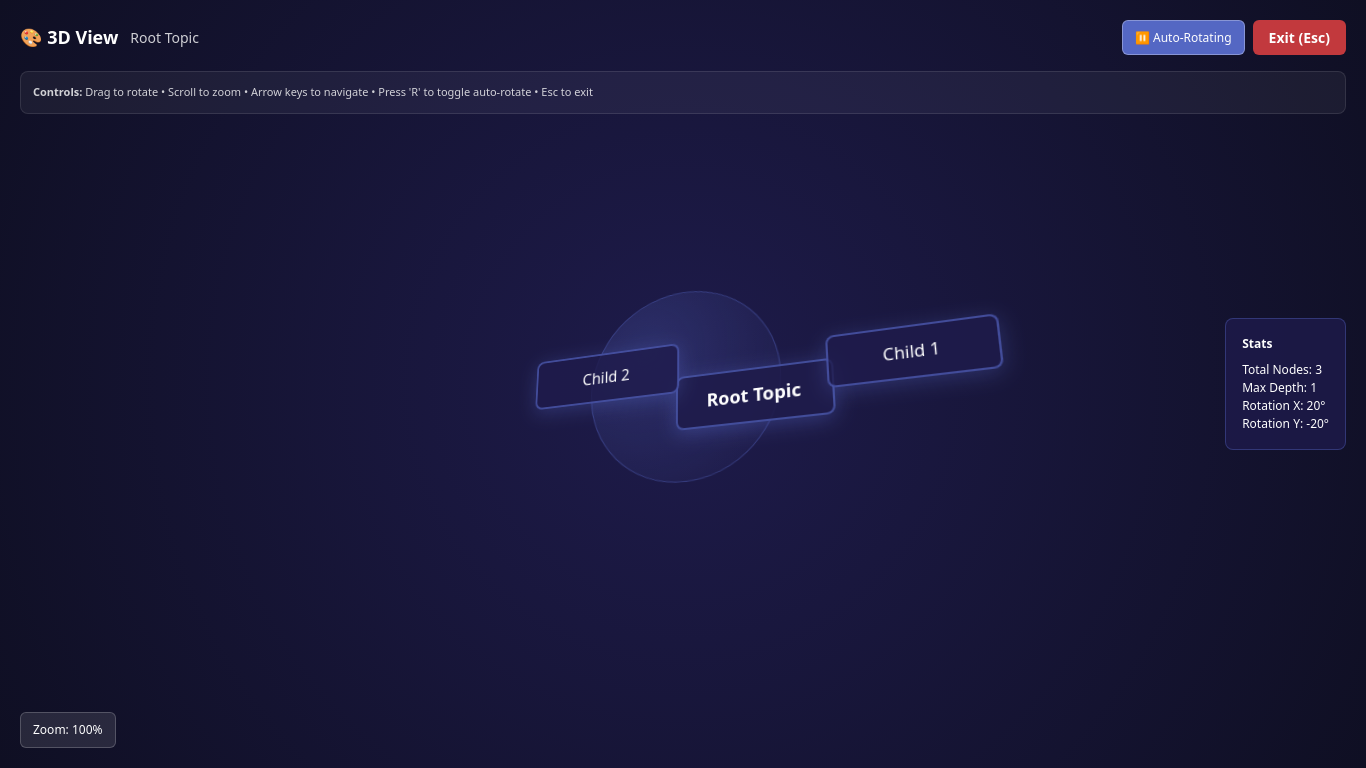
Test case: ThreeDView › should deselect node when clicking same node
Note: Select node
Click the list item "Root Topic" at (762, 401), box [683, 365, 840, 437]
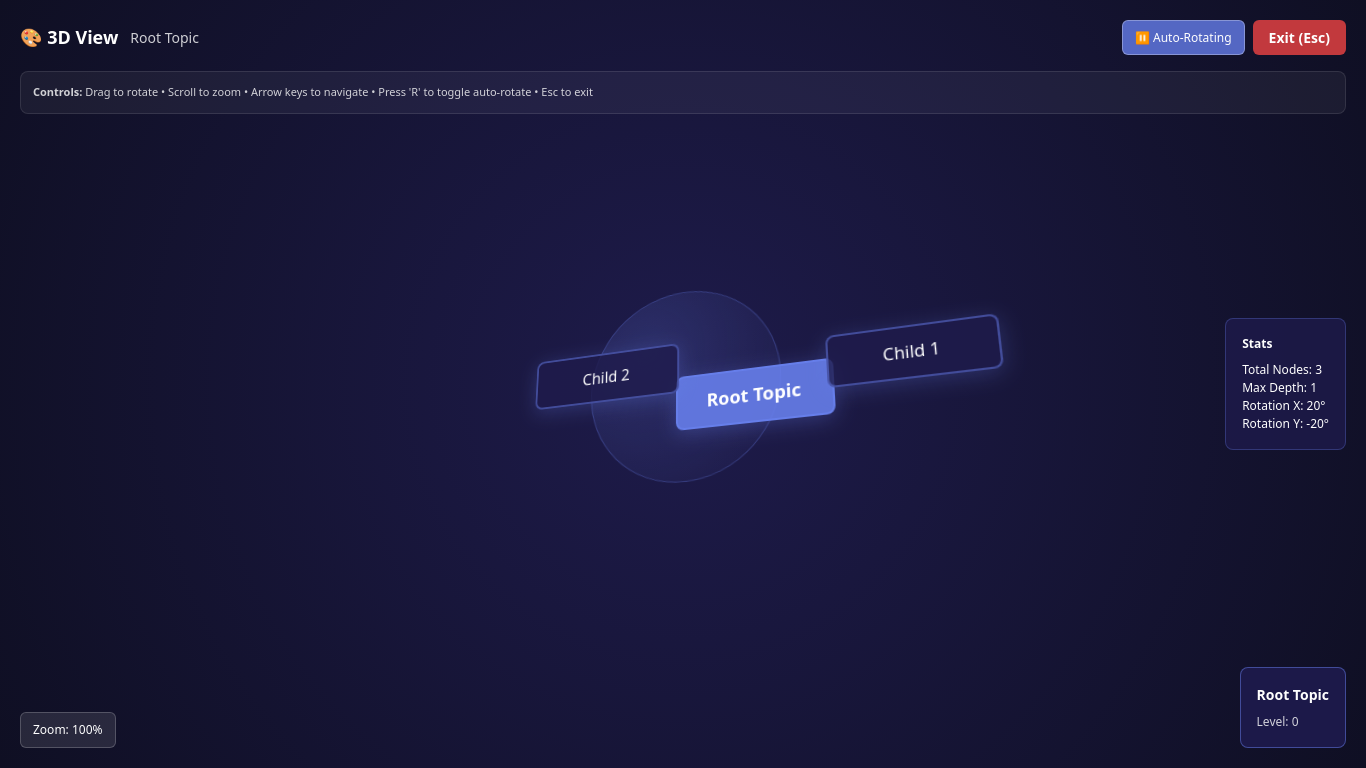
expect the dialog is shown: met, box [1240, 667, 1346, 748]
Note: Deselect node
Click the list item "Root Topic" at (762, 401), box [683, 365, 840, 437]
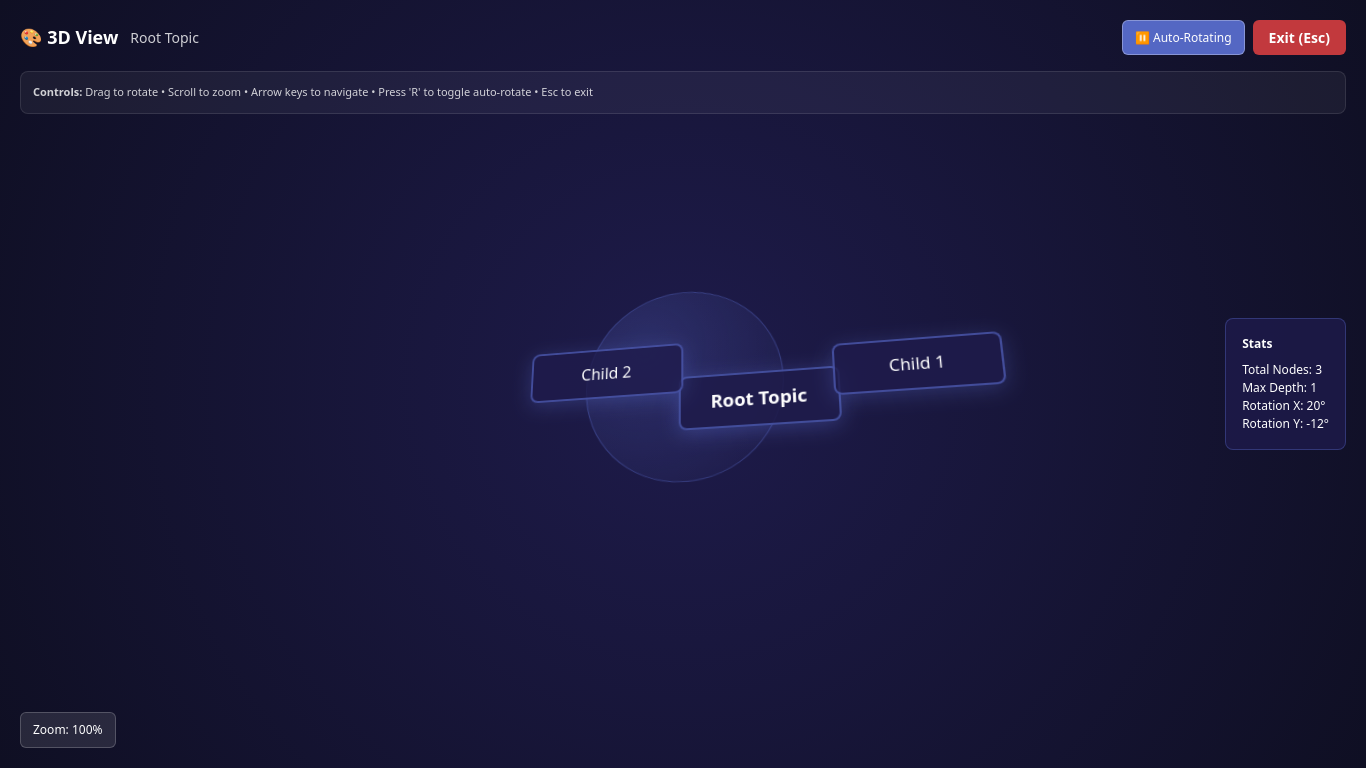
expect the dialog is gone: met
